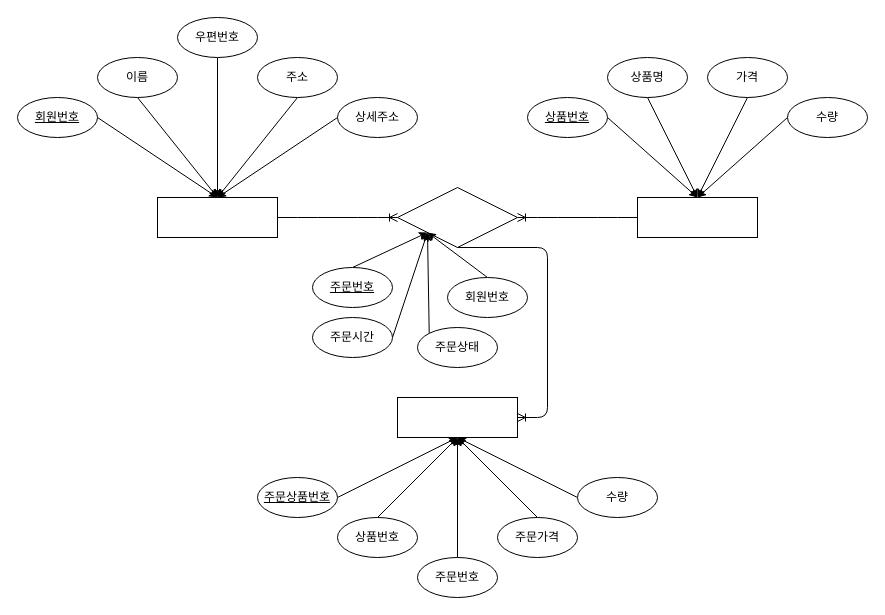
The diagram is 885 pixels wide and 615 high, and some of its shapes have lost their labels. Here are the shapes that lost their labels. From the top down, the centre of each, then its label:
At [217,217]: "회원".
At [457,217]: "주문".
At [697,217]: "상품".
At [457,417]: "주문상품".
